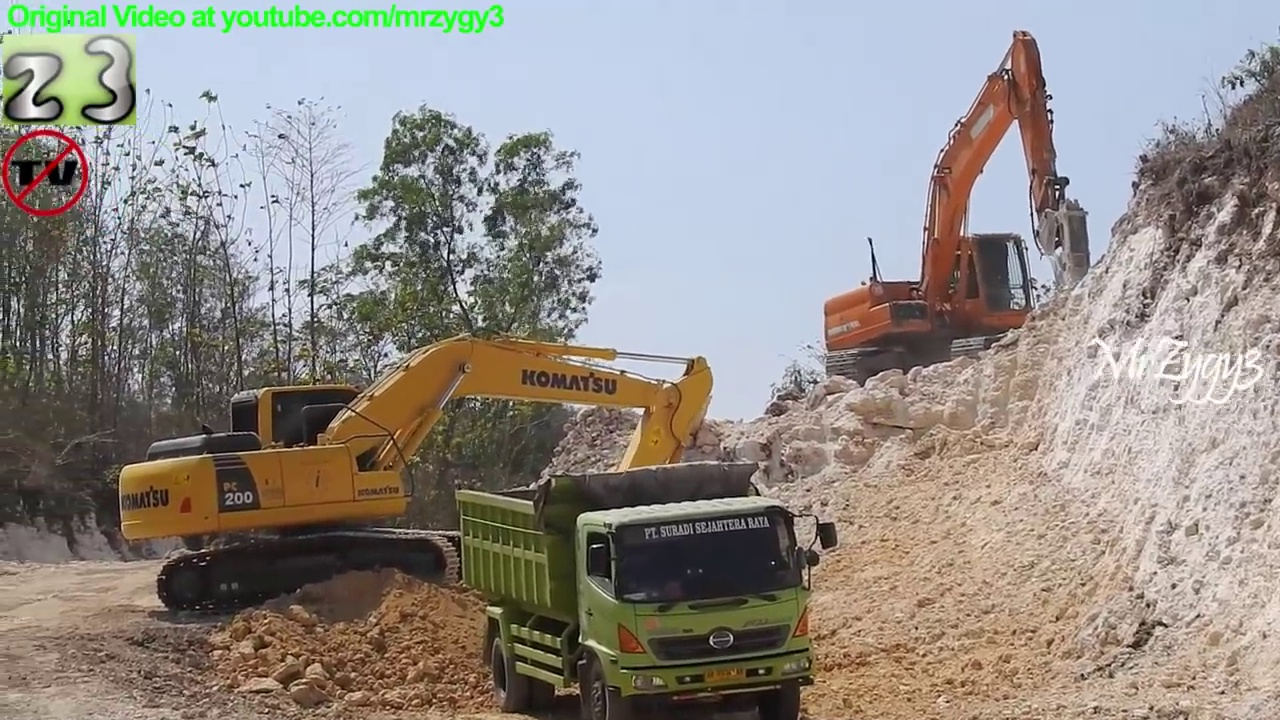excavator: (113, 327, 719, 624), (819, 23, 1099, 396)
truck: (455, 457, 845, 720)
